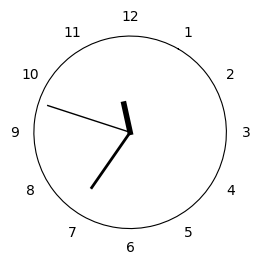12: (122, 10, 139, 23)
circle: (33, 36, 227, 229)
hours: (121, 100, 133, 133)
minutes: (90, 134, 130, 190)
seconds: (47, 105, 127, 131)
